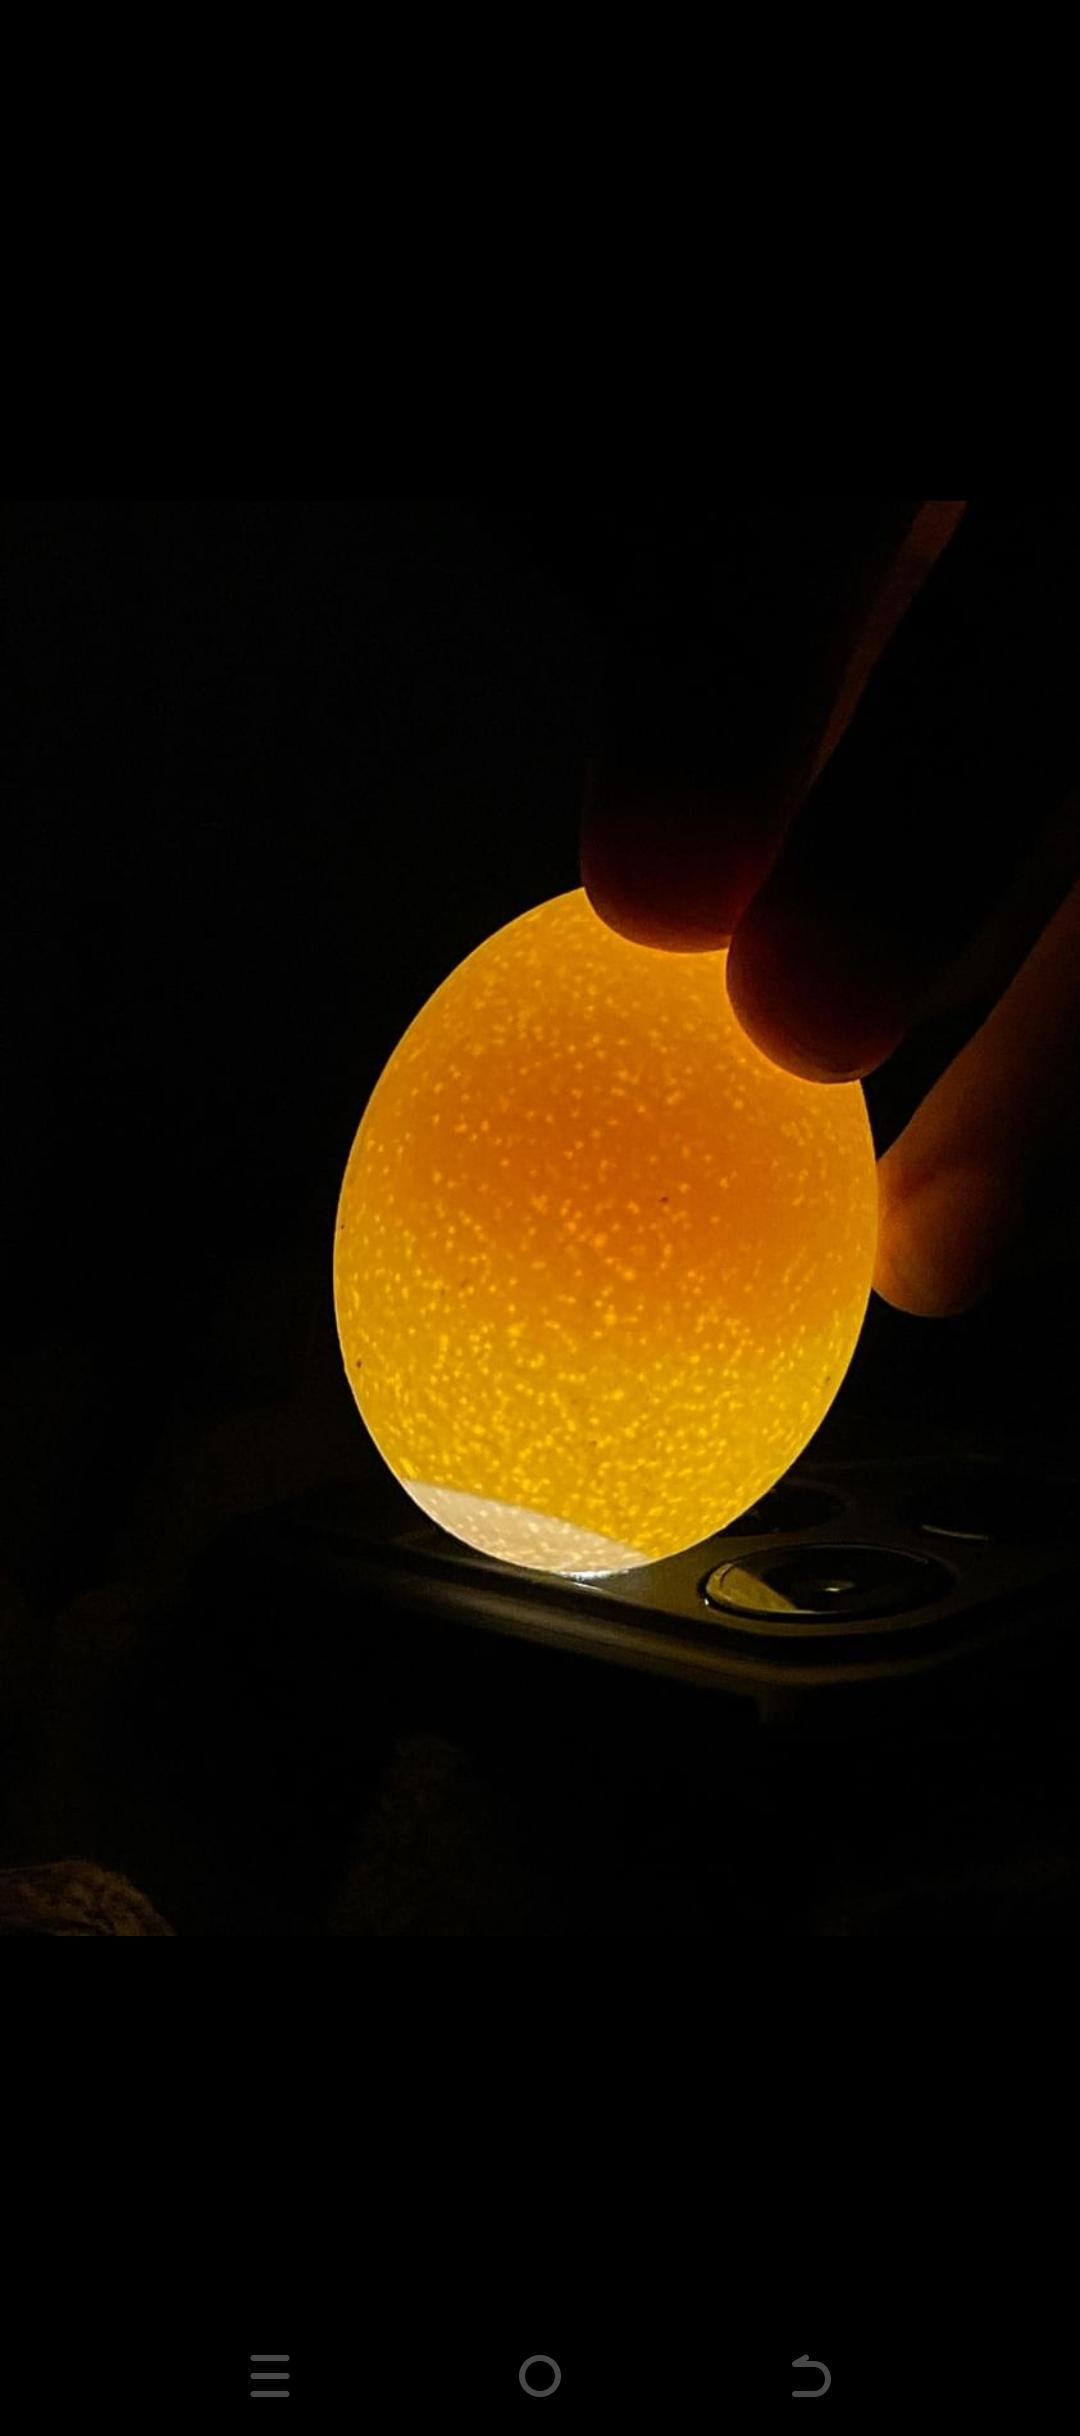A - Good: (306, 844, 897, 1653)
